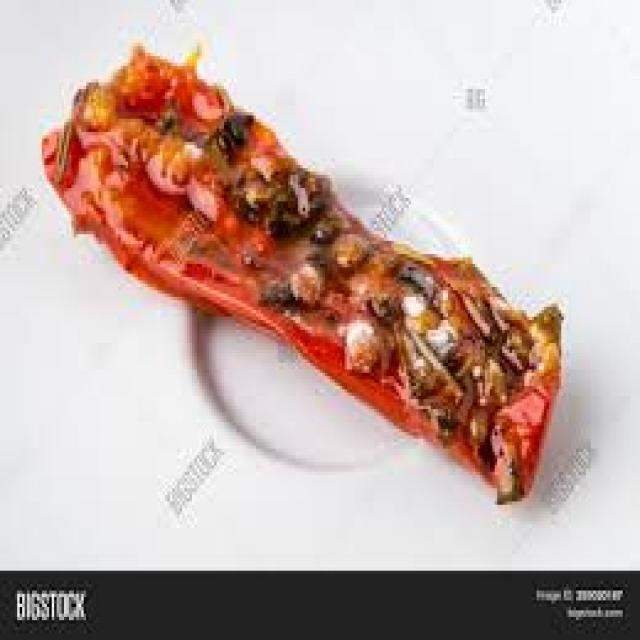organic waste: (39, 43, 559, 498)
